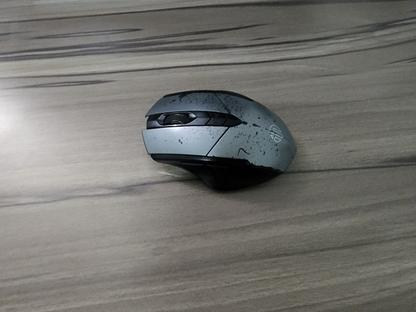mouse: (140, 88, 297, 192)
